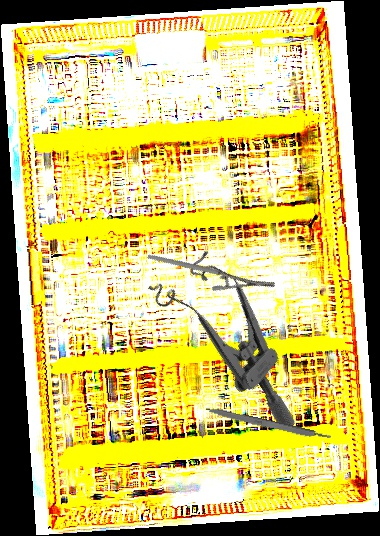Needle Holder: (146, 217, 278, 324)
Scalpel Handle: (204, 405, 332, 444)
Speculum: (133, 235, 344, 435)
